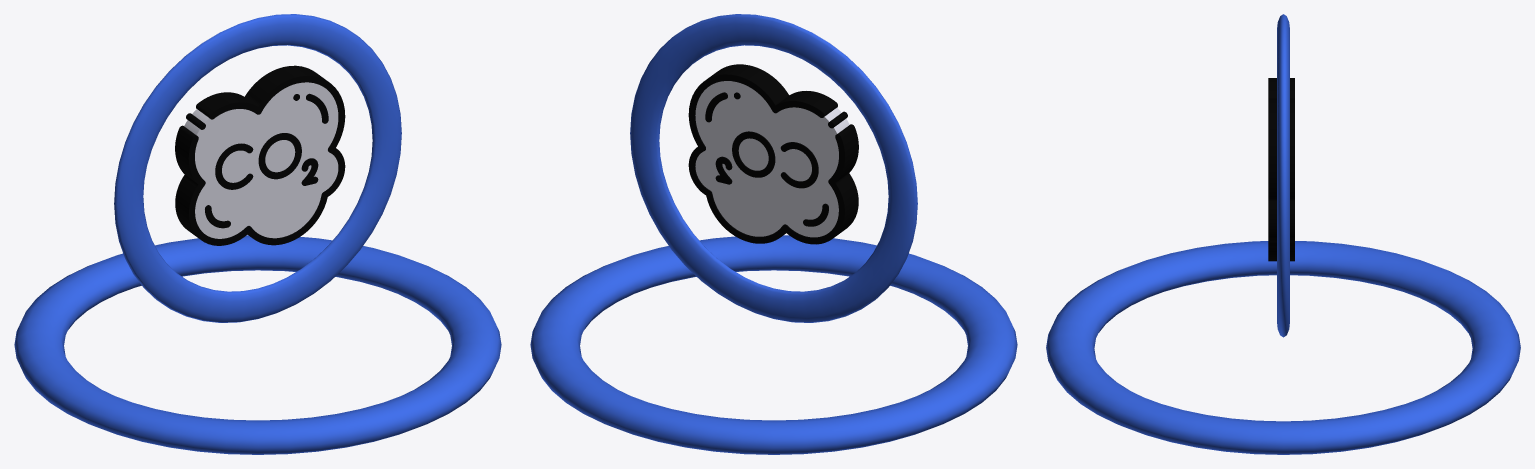
3 renders of one model, left to right at view 1: azimuth 30°, elevation 25°; view 2: azimuth 150°, elevation 25°; view 3: azimuth 270°, elevation 25°, orthographic. The views are drawn at different scales.
Visible parts, largest first — view 1: Rosca.017, Curve.055, Curve.057, Curve.061, Curve.062; view 2: Rosca.017, Curve.055, Curve.057, Curve.061, Curve.062; view 3: Rosca.017, Curve.057.
Part boxes in pixels (left/top/right/bottom): Rosca.017: left=14, top=14, right=501, bottom=454; Curve.055: left=184, top=82, right=338, bottom=238; Curve.057: left=175, top=65, right=345, bottom=245; Curve.061: left=258, top=133, right=301, bottom=179; Curve.062: left=215, top=143, right=253, bottom=189; Rosca.017: left=530, top=14, right=1017, bottom=454; Curve.055: left=695, top=81, right=849, bottom=237; Curve.057: left=688, top=64, right=858, bottom=244; Curve.061: left=732, top=131, right=775, bottom=177; Curve.062: left=780, top=142, right=818, bottom=188; Rosca.017: left=1046, top=14, right=1520, bottom=454; Curve.057: left=1268, top=78, right=1294, bottom=261.
Bounding box in the file's own units: 6.1 × 4.71 × 6.1.
